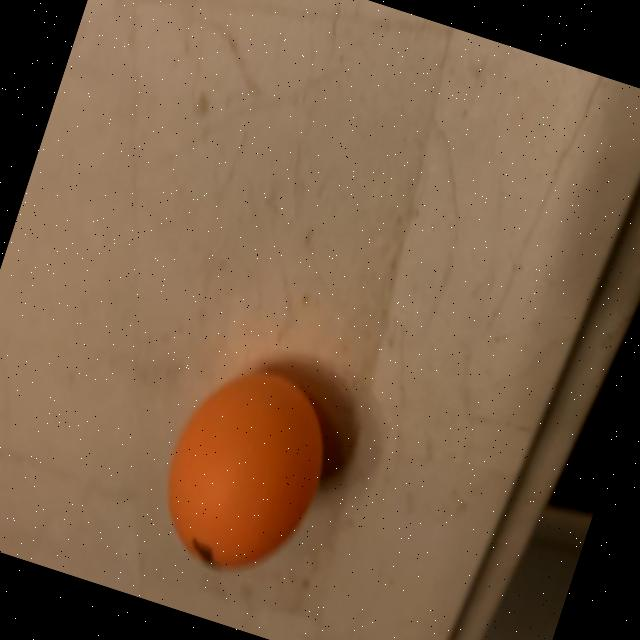ping-pong-ball: (134, 339, 362, 605)
